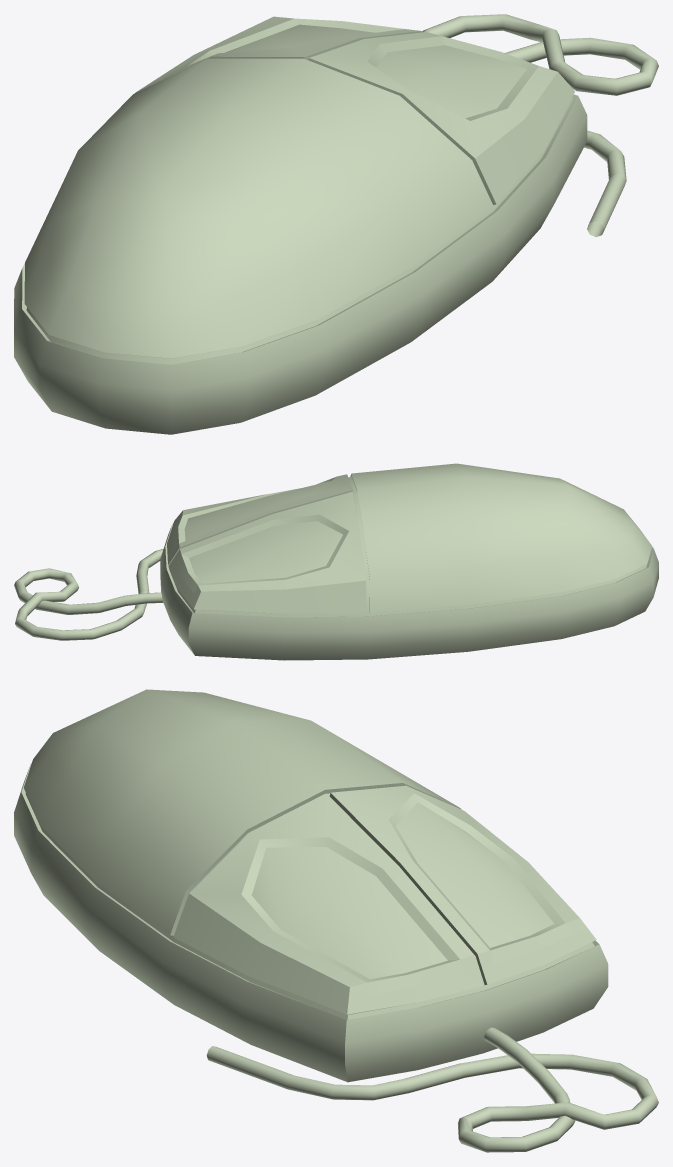
The model's file is mouse.glb.
3 renders of one model, top to bottom at view 1: azimuth 30°, elevation 25°; view 2: azimuth 150°, elevation 25°; view 3: azimuth 270°, elevation 25°, orthographic. The views are drawn at different scales.
Parts seen in each view (by area): view 1: Plane.002_13, Plane.007_23; view 2: Plane.002_13, Plane.007_23; view 3: Plane.002_13, Plane.007_23.
Part boxes in pixels (x1=…): Plane.002_13: x1=14, y1=16, x2=587, y2=434; Plane.007_23: x1=422, y1=14, x2=658, y2=237; Plane.002_13: x1=160, y1=463, x2=658, y2=660; Plane.007_23: x1=14, y1=549, x2=163, y2=640; Plane.002_13: x1=14, y1=689, x2=608, y2=1082; Plane.007_23: x1=206, y1=1027, x2=658, y2=1152.
Size of the model in its own units: 1.33 by 0.3158 by 1.01.
